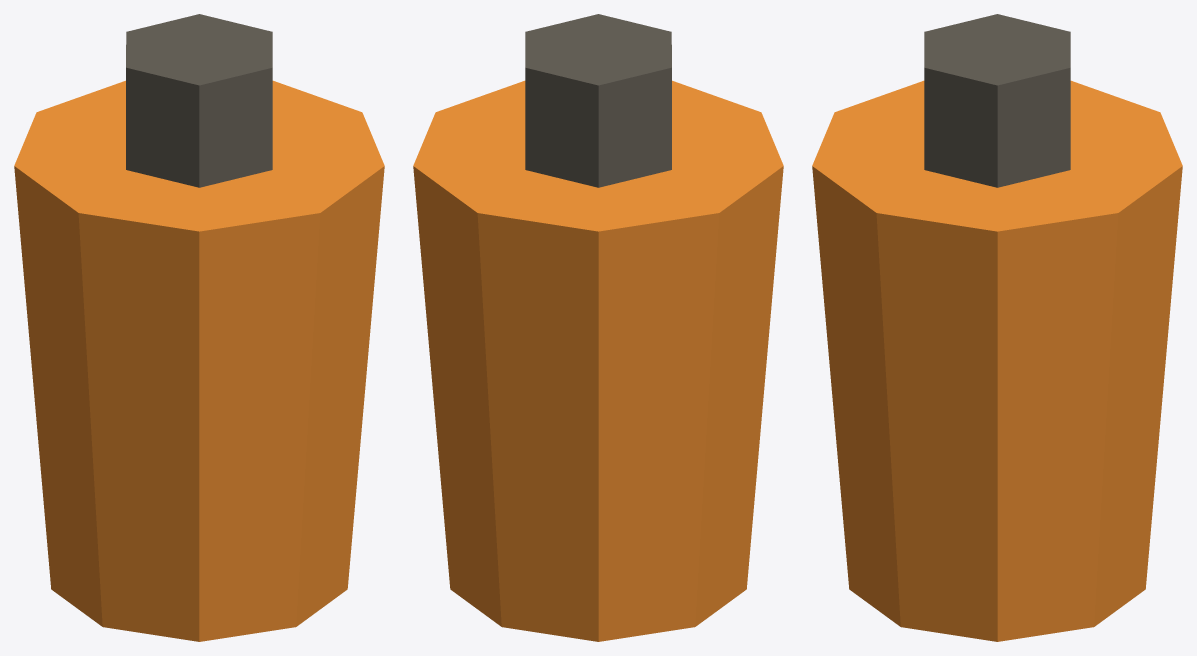
File: estus_flask.obj
3 views of the same model, side by side, from view 1: azimuth 30°, elevation 25°; view 2: azimuth 150°, elevation 25°; view 3: azimuth 270°, elevation 25° (orthographic).
Parts seen in each view (by area): view 1: estus_glass, estus_cap; view 2: estus_glass, estus_cap; view 3: estus_glass, estus_cap.
Part boxes in pixels (x1,y1,x2,y2): estus_glass: (14,80,384,641); estus_cap: (126,14,272,187); estus_glass: (413,80,783,641); estus_cap: (525,14,671,187); estus_glass: (812,80,1182,641); estus_cap: (924,14,1070,187).
Bounding box in the file's own units: 0.3879 × 0.62 × 0.394.
